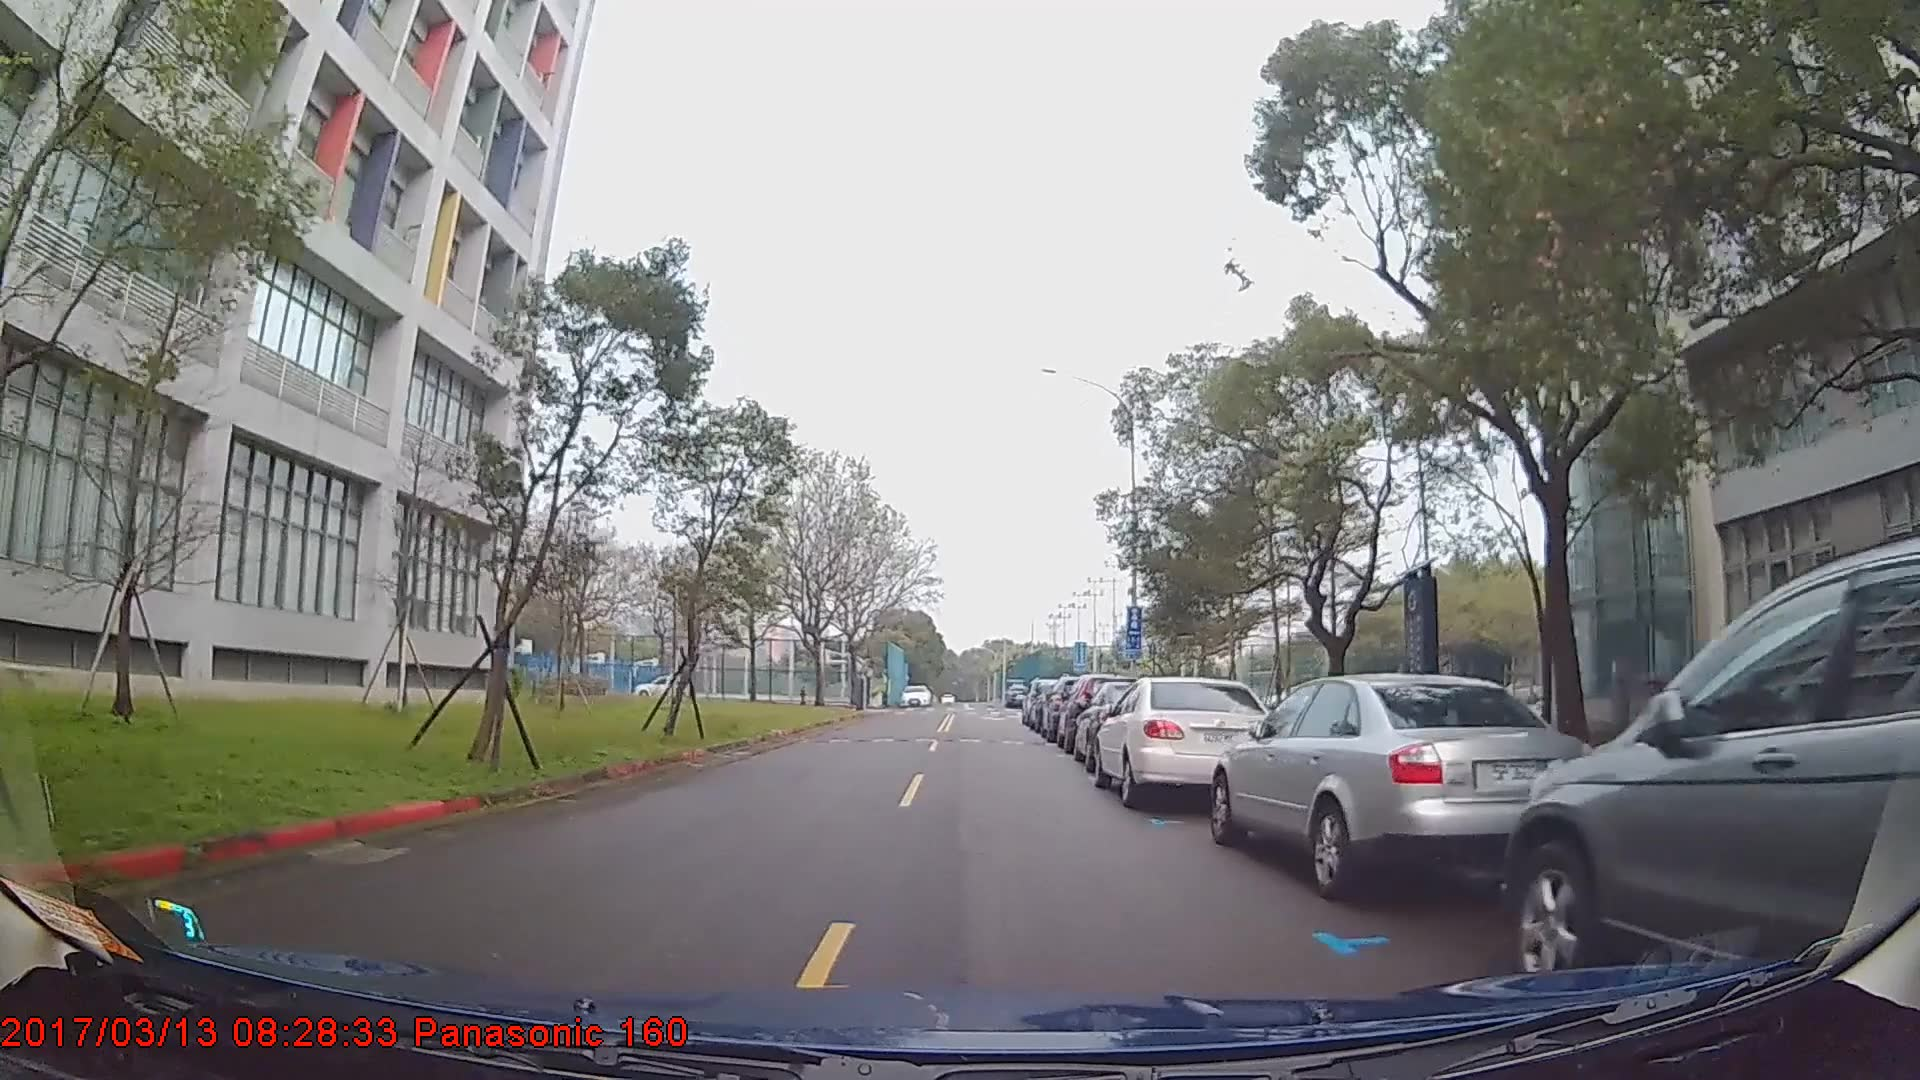vehicle: (1505, 527, 1920, 1022), (1207, 673, 1594, 899), (1092, 675, 1286, 811), (899, 683, 931, 705)
